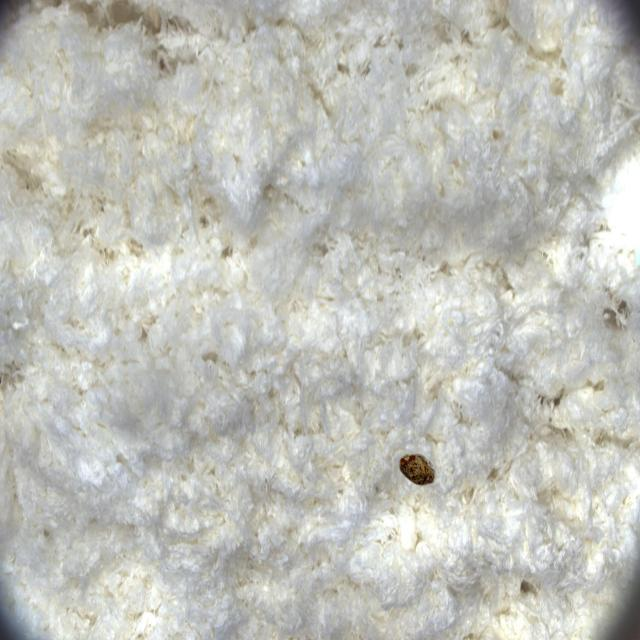dust: (388, 422, 457, 526)
